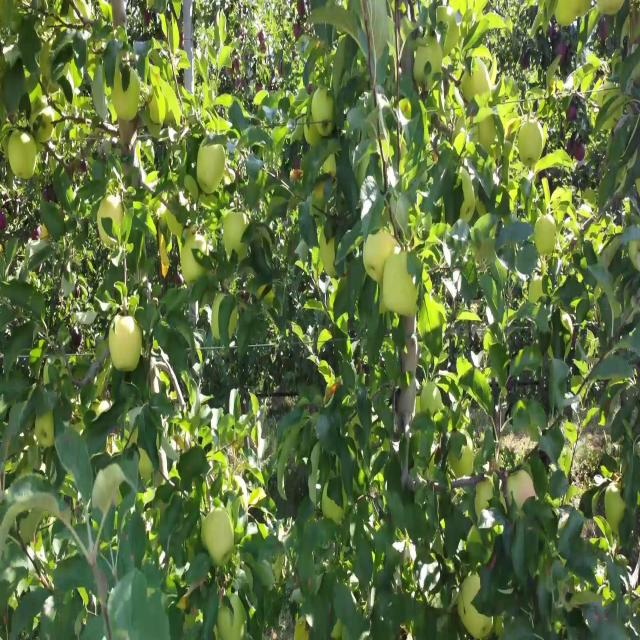apple: (460, 49, 497, 105), (364, 227, 399, 283), (108, 319, 144, 372), (204, 511, 235, 569), (385, 263, 419, 315), (196, 142, 227, 192), (8, 135, 39, 183), (180, 234, 208, 286), (100, 191, 125, 247), (520, 120, 548, 164), (112, 78, 140, 121), (512, 469, 536, 510), (464, 604, 492, 639), (396, 277, 419, 318), (224, 213, 248, 252), (316, 85, 336, 123), (500, 106, 521, 142), (536, 220, 557, 256), (36, 412, 56, 448), (424, 298, 443, 334), (480, 113, 497, 151), (36, 113, 55, 146), (376, 291, 399, 318), (148, 92, 167, 121), (140, 447, 155, 482), (304, 120, 322, 149), (120, 120, 137, 149), (528, 277, 544, 306), (124, 419, 140, 448), (156, 200, 170, 233), (168, 99, 183, 128), (72, 56, 84, 91), (460, 199, 475, 226), (148, 120, 164, 142), (324, 383, 339, 404), (112, 7, 127, 28), (320, 120, 335, 140), (324, 156, 336, 180), (572, 142, 585, 164), (400, 99, 412, 121), (160, 255, 171, 279), (32, 341, 45, 361), (476, 199, 488, 220), (320, 327, 332, 345), (456, 135, 466, 156), (404, 319, 416, 336), (484, 334, 493, 354), (496, 618, 504, 638), (0, 213, 8, 233), (568, 106, 577, 121), (296, 7, 305, 16)
